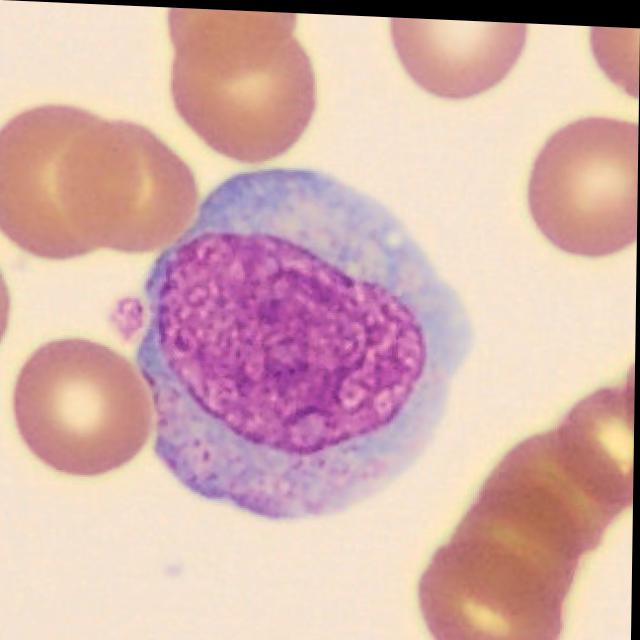Monocito: (119, 167, 473, 519)
